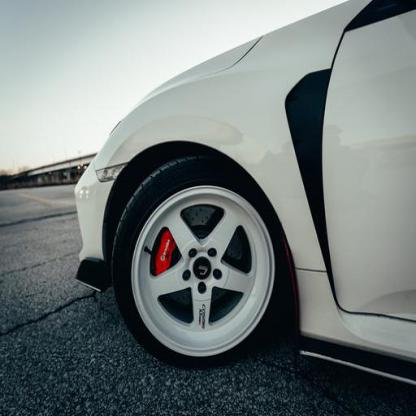Tire: (108, 152, 292, 369)
